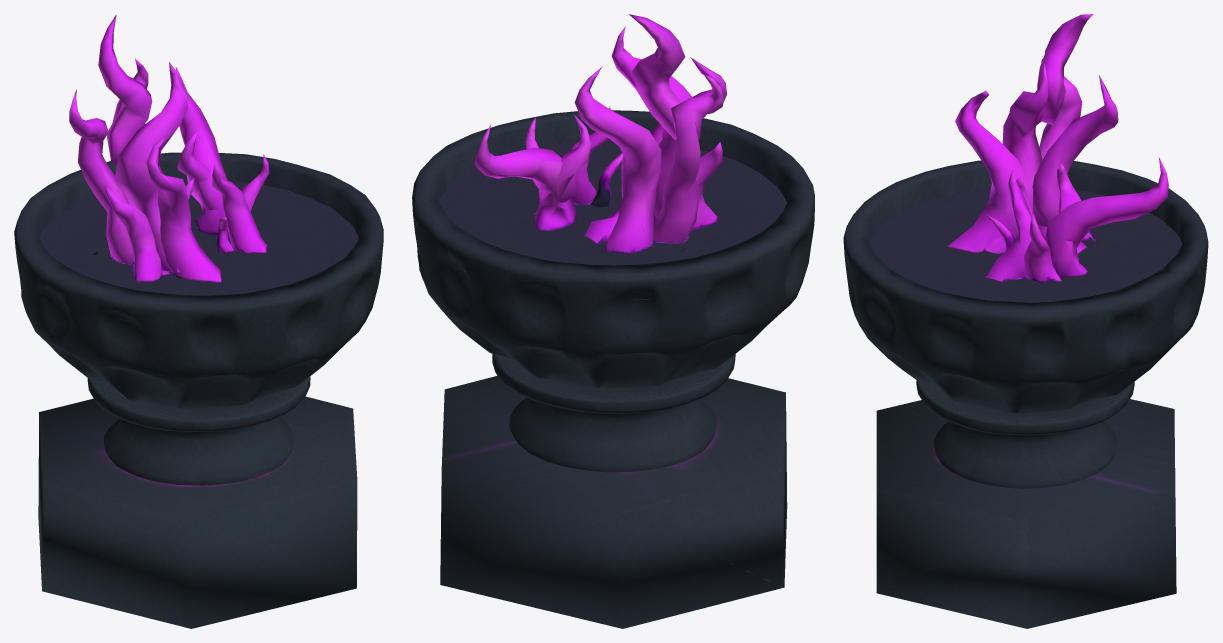
File: brasero_violeta.glb
3 views of the same model, side by side, from view 1: azimuth 30°, elevation 25°; view 2: azimuth 150°, elevation 25°; view 3: azimuth 270°, elevation 25° (orthographic). The views are drawn at different scales.
Size of the model in its own units: 0.65 by 1 by 0.64.
1 material, 1 textured.
